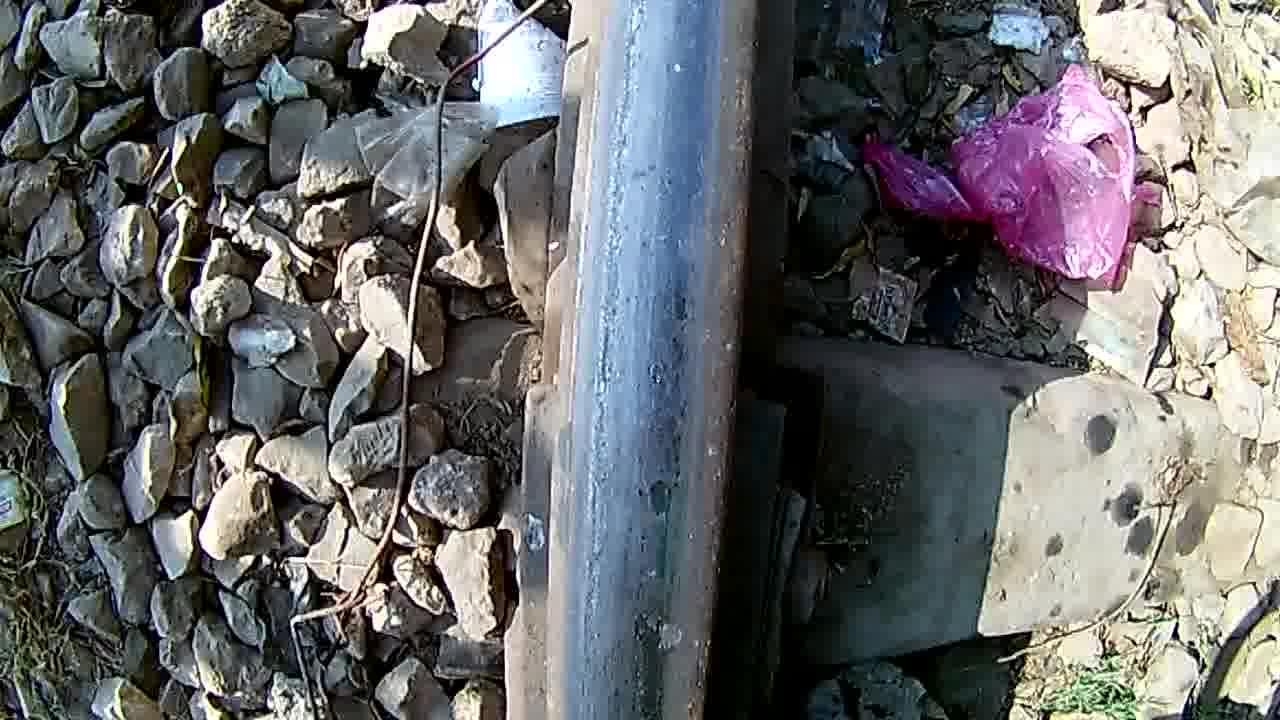crack: (565, 14, 724, 720)
